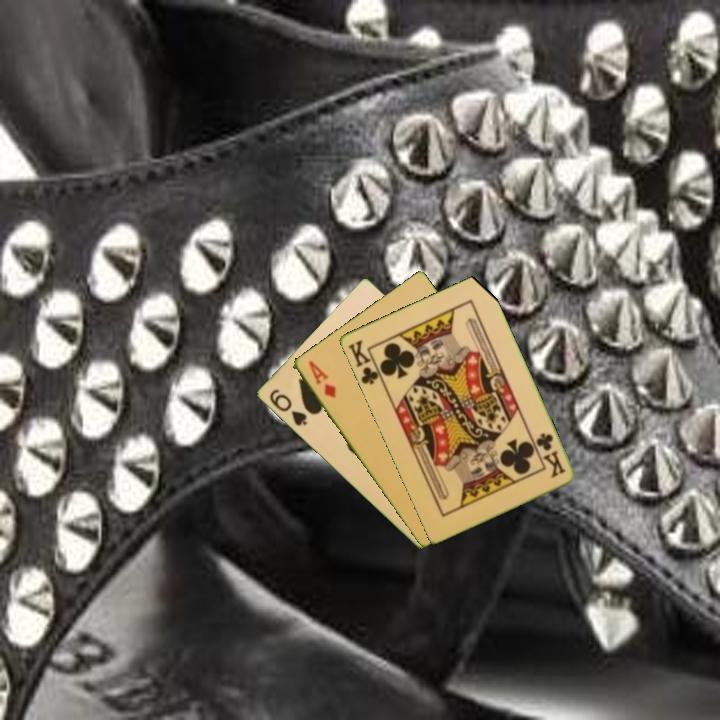6s: (265, 385, 310, 429)
Ad: (304, 357, 338, 401)
Kc: (344, 336, 385, 387), (532, 429, 569, 481)
